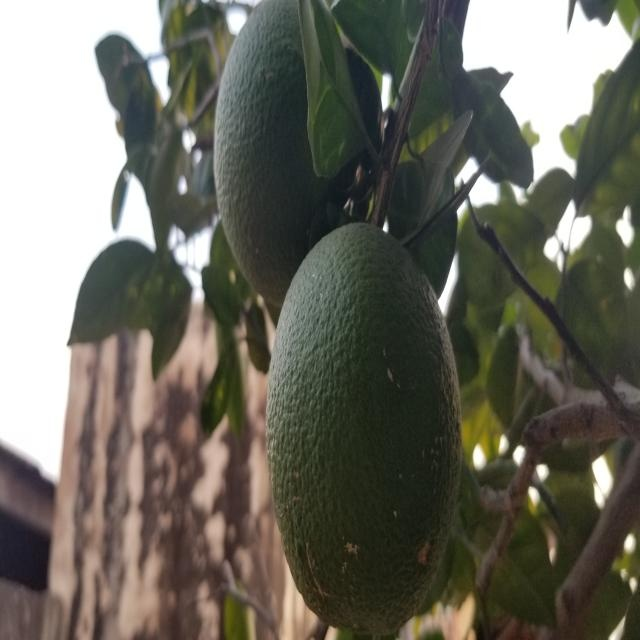agrume: (259, 222, 462, 637), (211, 0, 379, 294)
